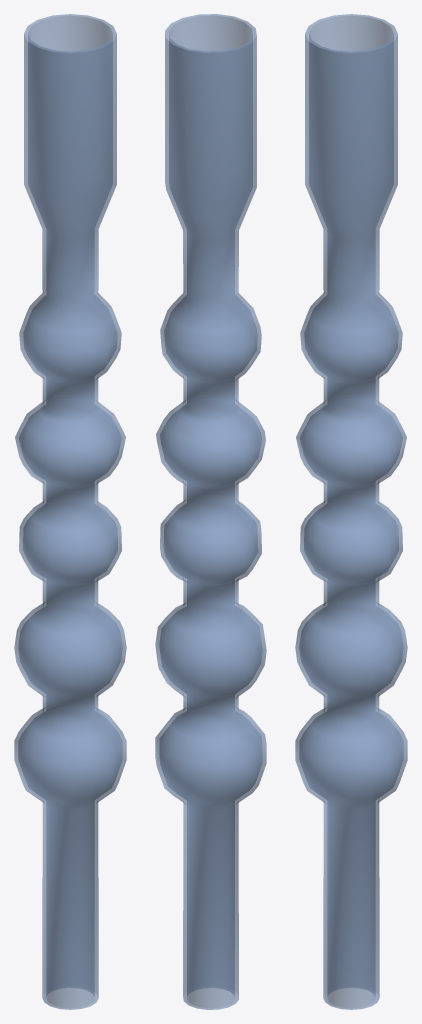
Rendered from kolona.fbx.
3 views of the same model, side by side, from view 1: azimuth 90°, elevation 25°; view 2: azimuth 150°, elevation 25°; view 3: azimuth 270°, elevation 25° (orthographic).
Visible parts, largest first — view 1: kolona; view 2: kolona; view 3: kolona.
Boxes of the visible parts, x1,y1,x2,y2 form: kolona: (14,14,126,1009); kolona: (155,14,266,1009); kolona: (295,14,407,1009).
Size of the model in its own units: 5.68 by 53.77 by 5.68.
